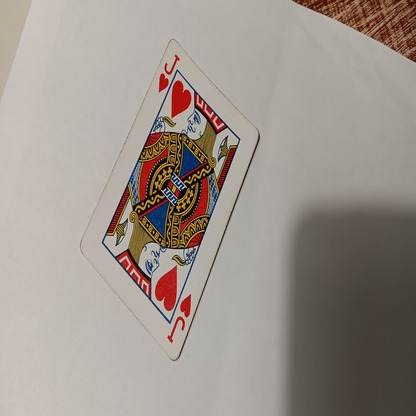Jh: (169, 294, 191, 342), (156, 54, 180, 91)
